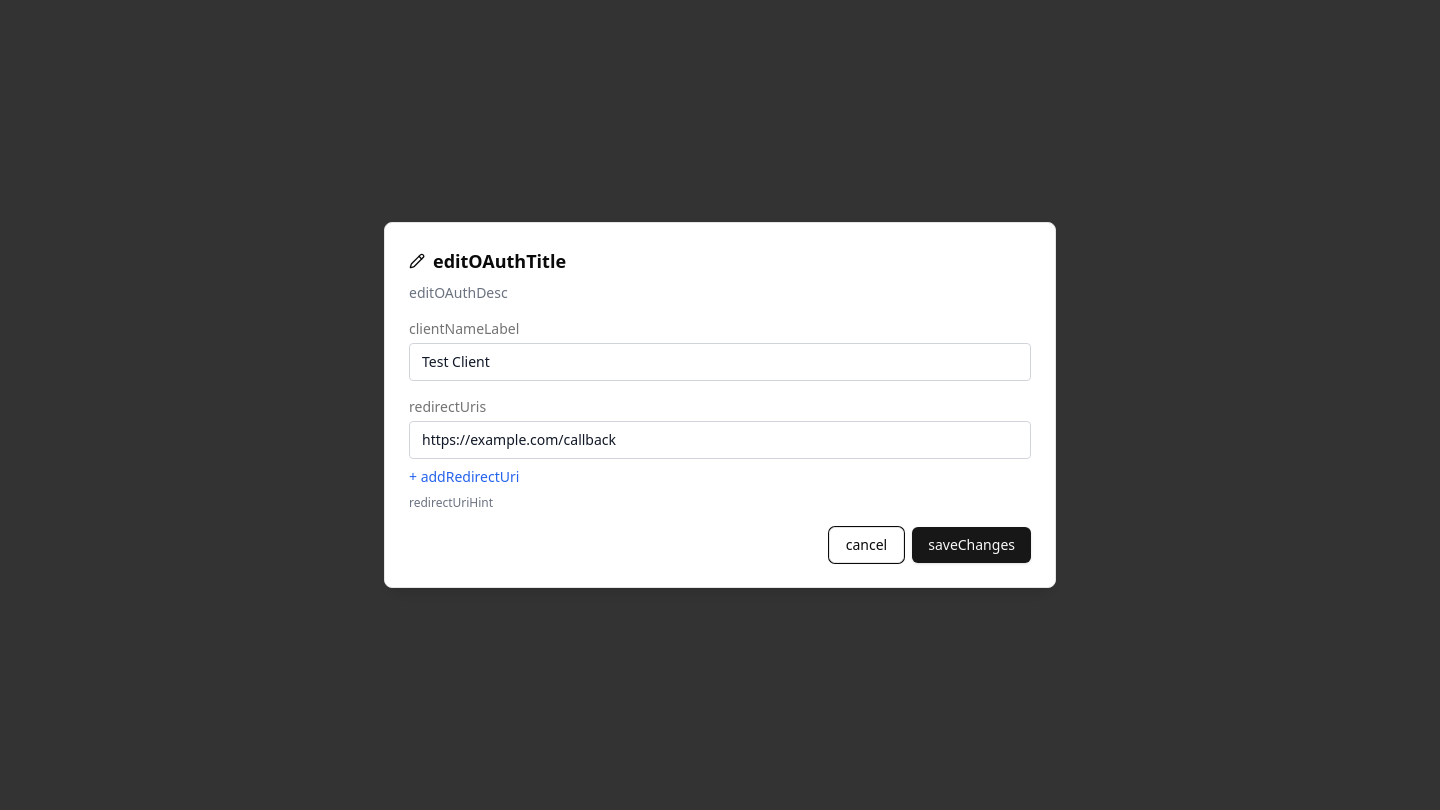
Scenario: EditOAuthClientDialog › displays API error and keeps the dialog open on failure
The image size is (1440, 810).
Click the button "saveChanges": click(972, 545) top-left (912, 527), bottom-right (1031, 563)
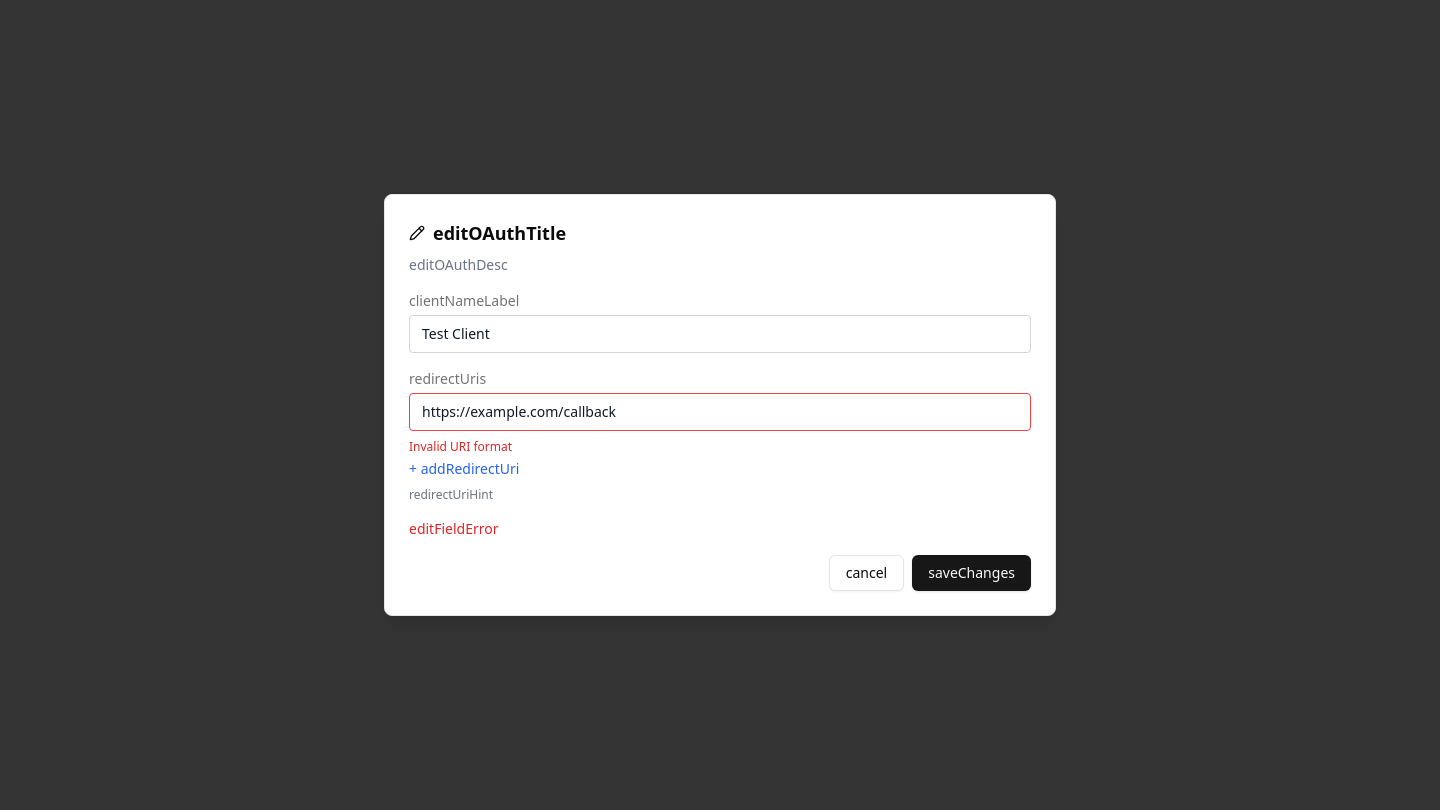
Now the text "Invalid URI format" is shown, box top-left (409, 438), bottom-right (512, 455)
